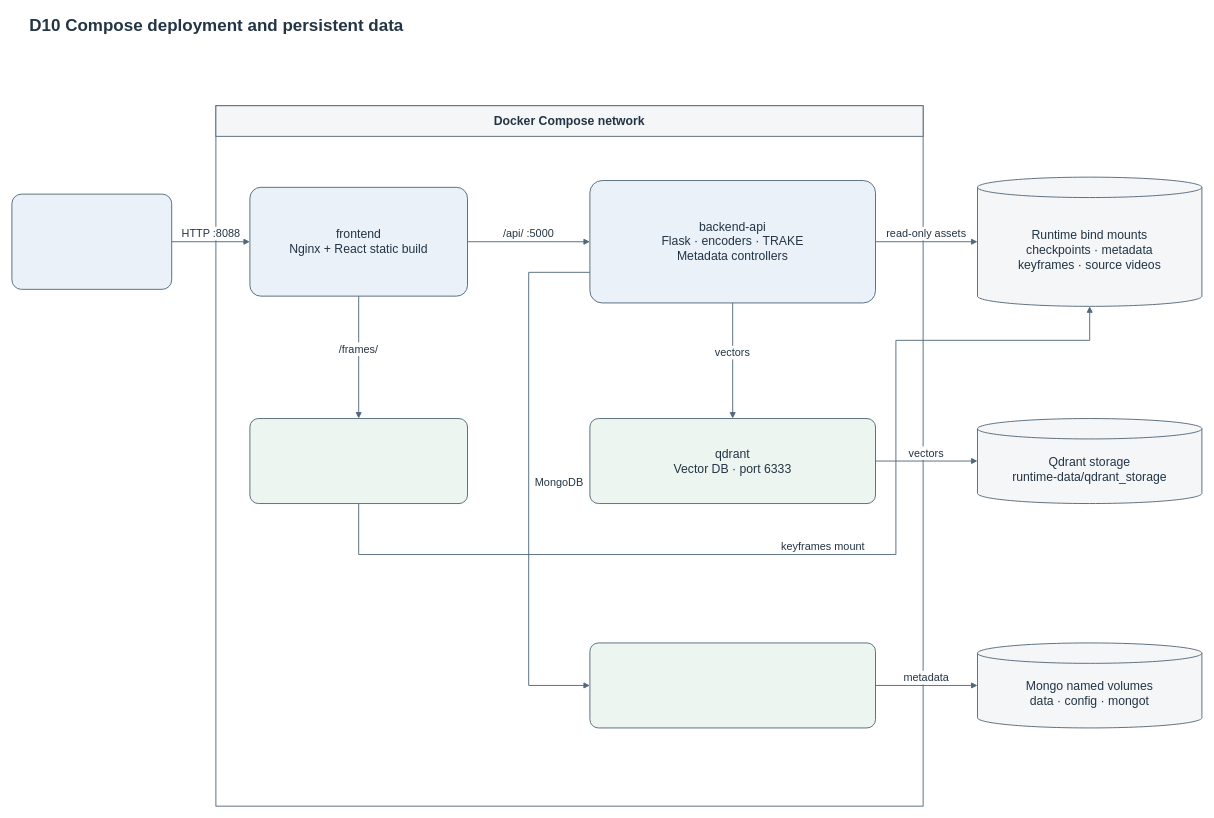
This 1214x818 diagram has some shape labels left out. The box of each missing label's shape, as (x1, y1, x2, y2) in pixels:
frame-server Express · port 8080: (249, 418, 468, 504)
mongodb Atlas Local · port 27017: (589, 642, 876, 728)
User device Browser: (11, 193, 172, 289)
